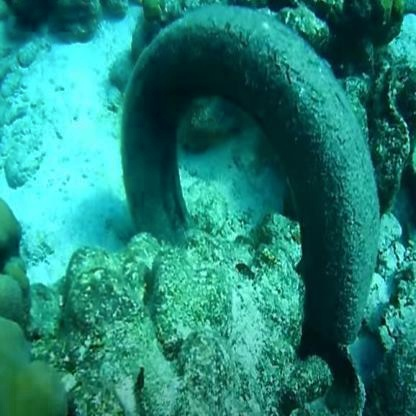tire: (140, 29, 380, 339)
